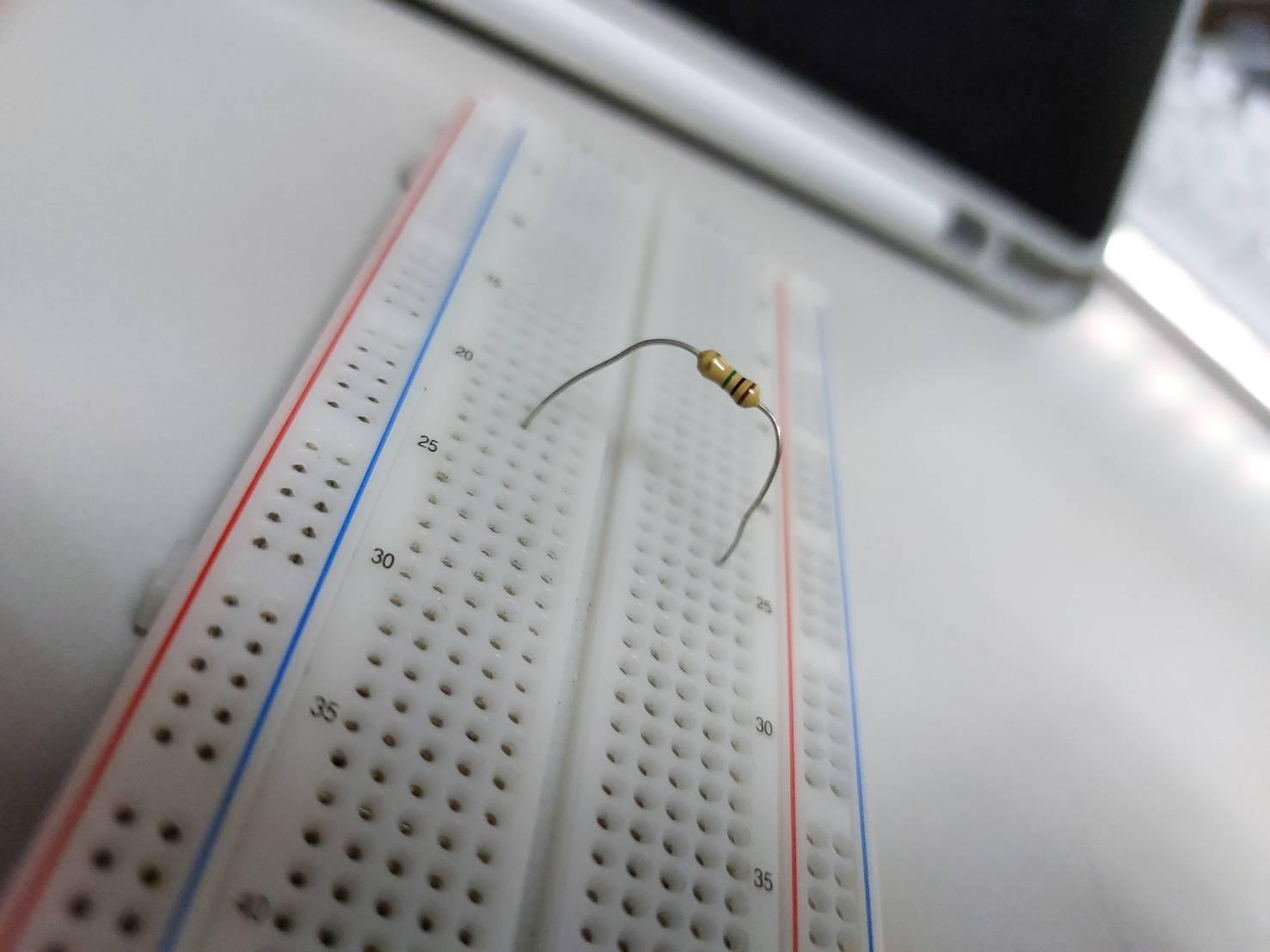resistor: (697, 348, 762, 410)
